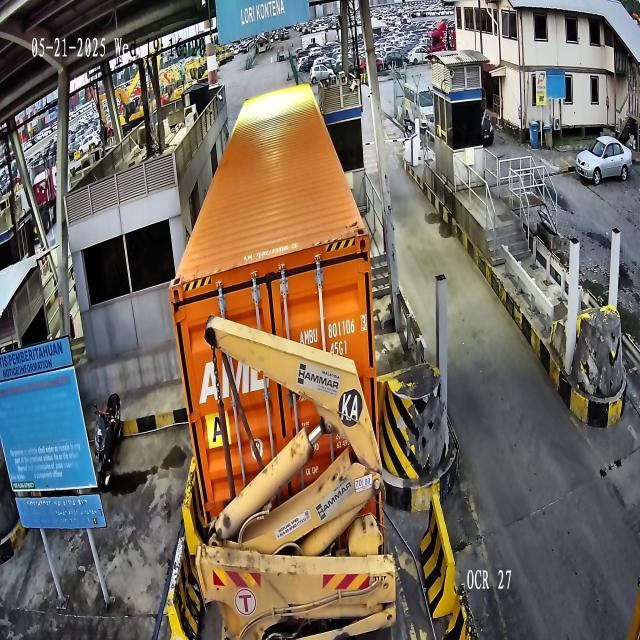ISO: (327, 337, 349, 359)
container_number: (296, 310, 371, 350)
